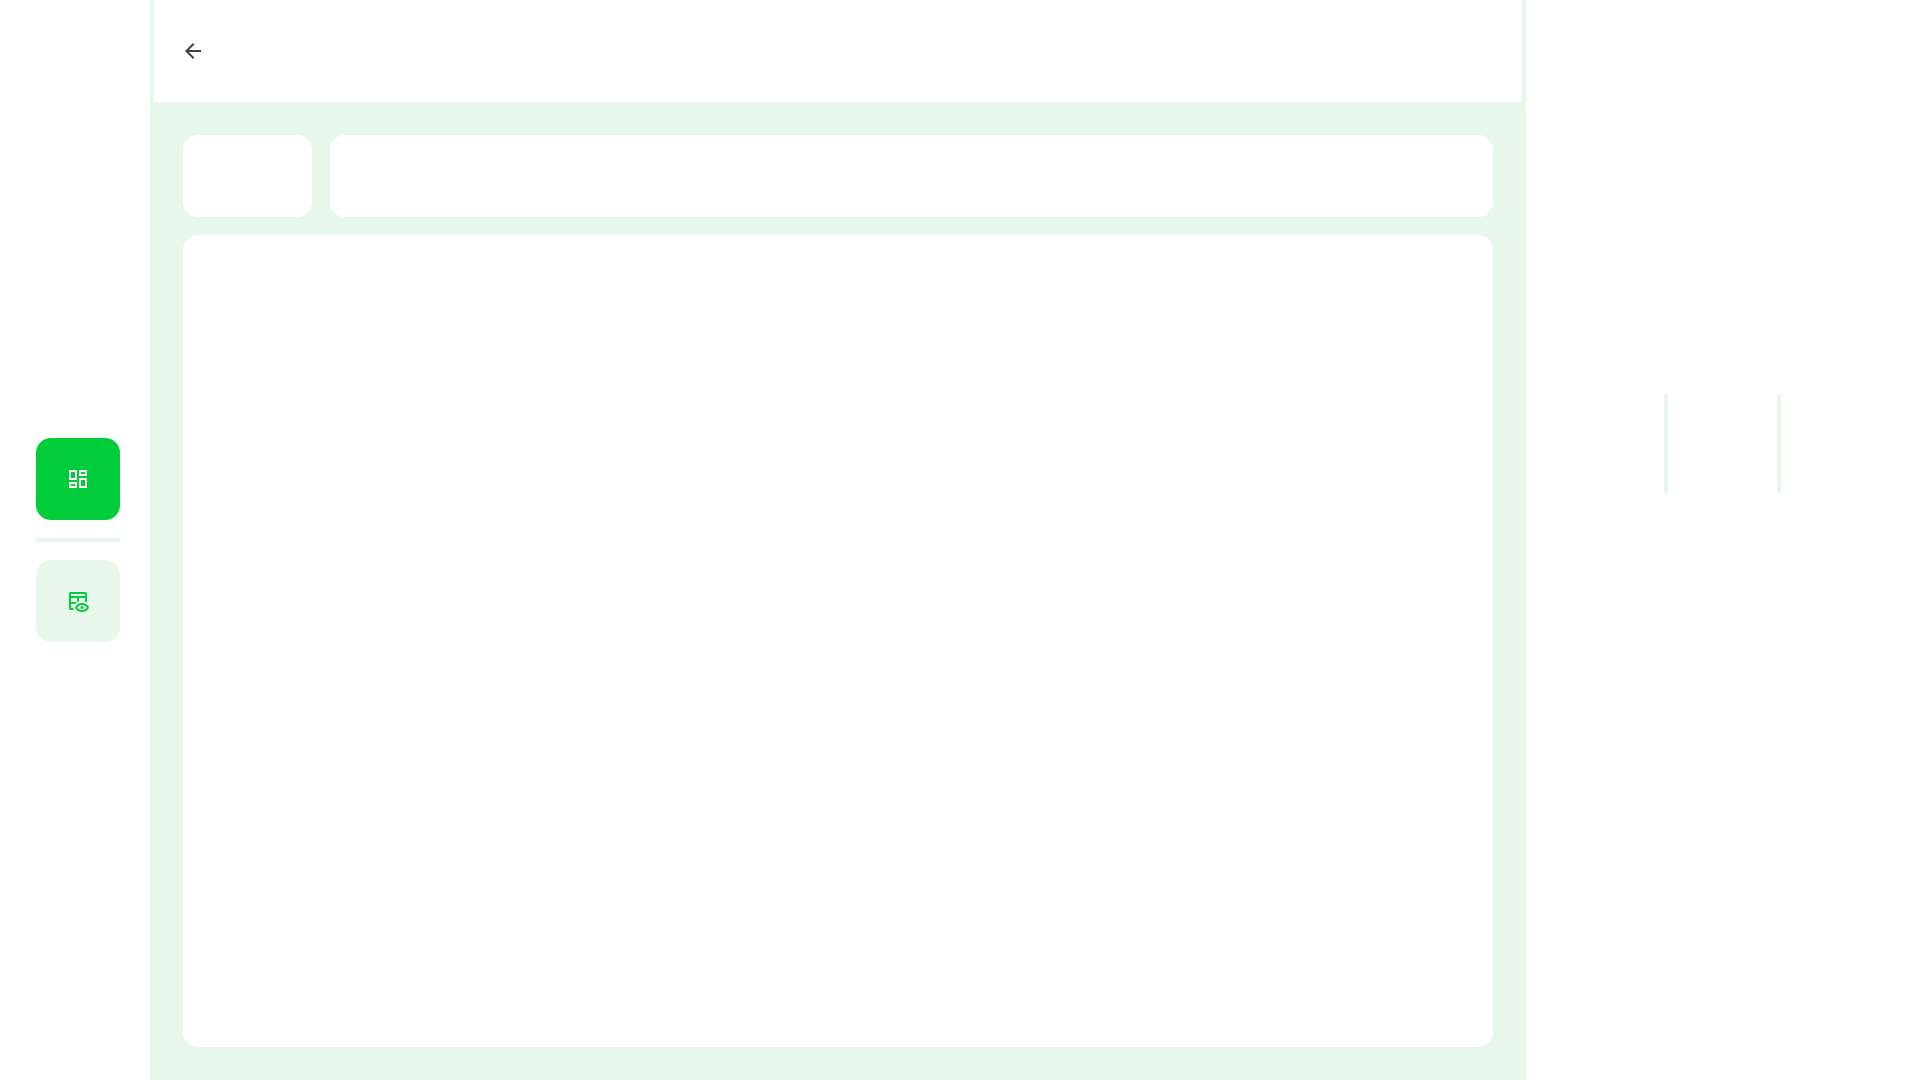

What the dashboard file says about the page in this screenshot:
{"tool":"powerbi","page":{"name":"Shapes","canvas":[1280,720],"ordinal":3},"visuals":[{"type":"shape","box":[278.3,61.7,280,22.8],"z":0},{"type":"shape","box":[236,84.5,12,116],"z":1000}]}

Visuals, with their boxes on the page's 1280x720 design canvas (x1, y1, x2, y2). These are canvas units, not pixel positions in the 1920x1080 screenshot, which may show the page scaled, cropped or inside an application window:
shape: Rect(278, 62, 558, 84)
shape: Rect(236, 84, 248, 200)
